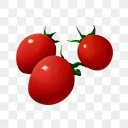tomato: (28, 55, 75, 105), (16, 33, 56, 73), (78, 35, 113, 70)
